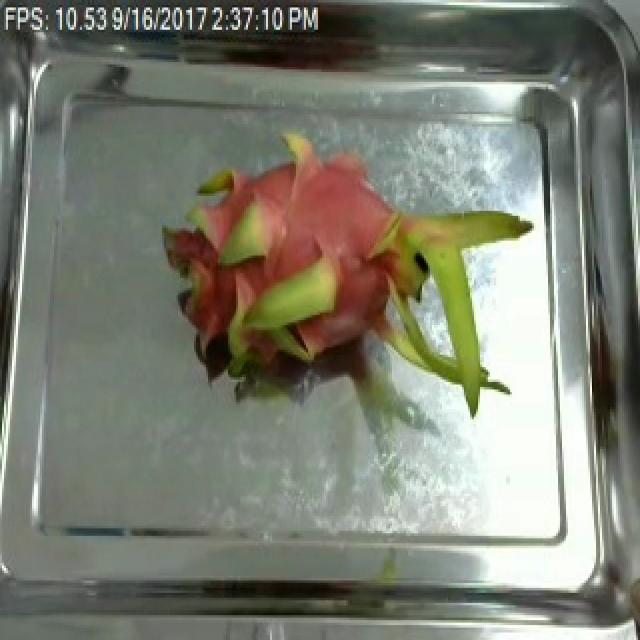fruit: (142, 104, 546, 444)
